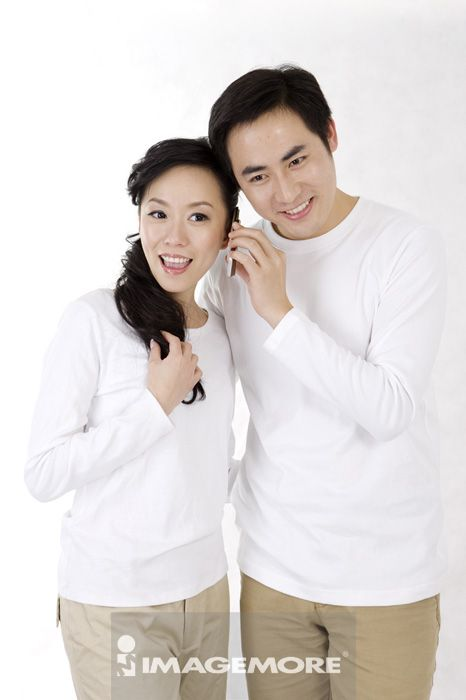phone: (227, 202, 238, 280)
talk: (142, 197, 288, 324)
